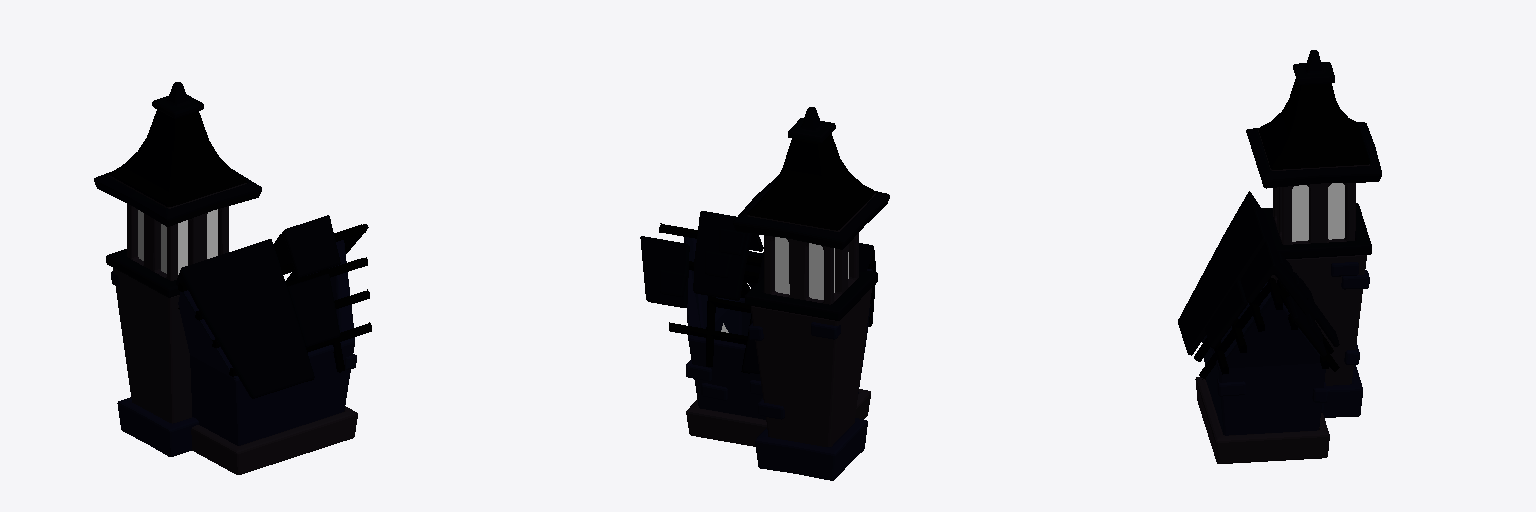
File: House.obj
3 views of the same model, side by side, from view 1: azimuth 30°, elevation 25°; view 2: azimuth 150°, elevation 25°; view 3: azimuth 270°, elevation 25° (orthographic).
Visible parts, largest first — view 1: Cube; view 2: Cube; view 3: Cube.
Part boxes in pixels (x1,y1,x2,y2): Cube: (94,82,371,474); Cube: (640,107,889,480); Cube: (1178,50,1381,463).
Bounding box in the file's own units: 9.57 × 13.45 × 7.09.